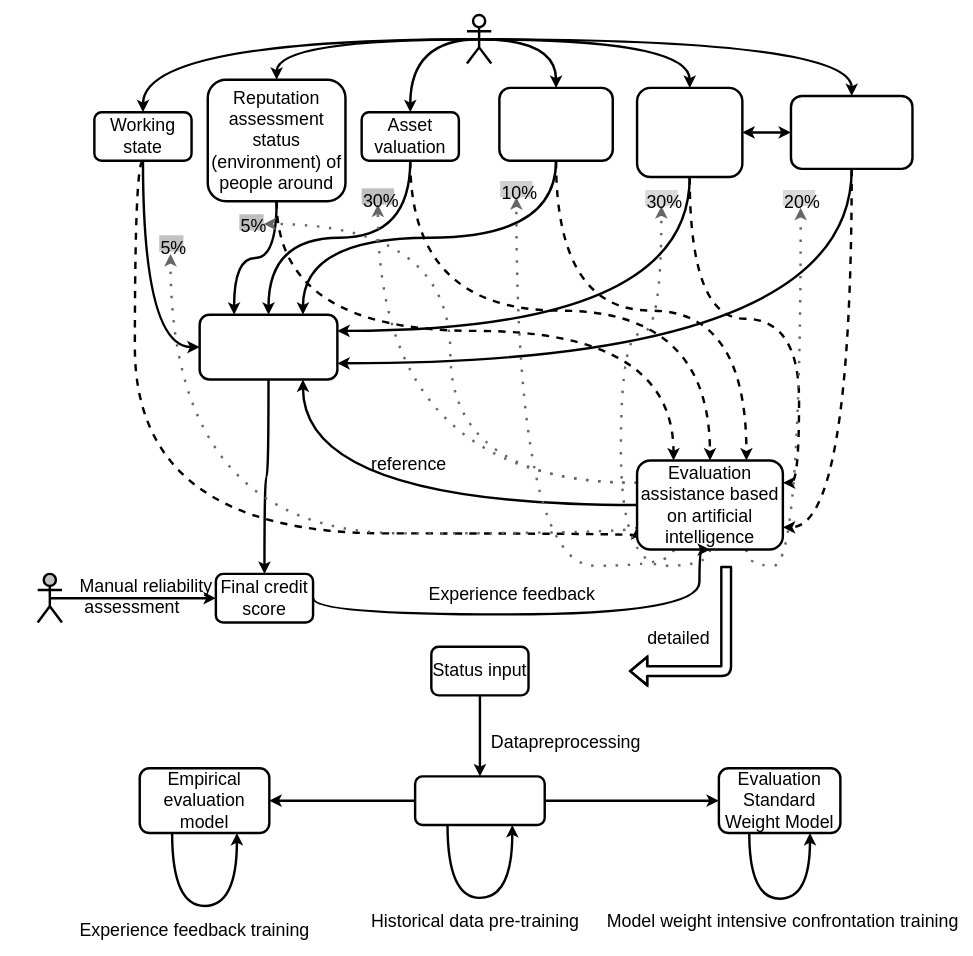
Image size: 973x956. Some labels were removed from this diagram. Each missing label, with the box of its shape:
Banking trustworthiness: (789, 94, 913, 170)
Business people: (36, 572, 63, 623)
Consumption record ability: (498, 86, 614, 162)
Human-based experience assessment: (198, 313, 338, 380)
Loan repayment ability: (635, 86, 743, 178)
Model infrastructure: (414, 775, 546, 826)
people: (465, 13, 492, 64)
